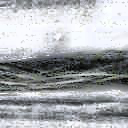crackTip: (1, 50, 128, 96)
